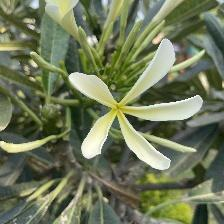champaka: (65, 38, 206, 175)
